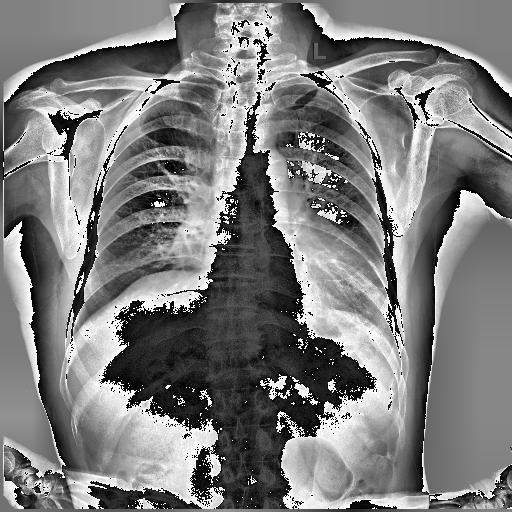0- Aortic enlargement: (244, 148, 288, 185)
3- Cardiomegaly: (204, 232, 382, 317), (202, 244, 388, 306), (200, 252, 386, 310)
